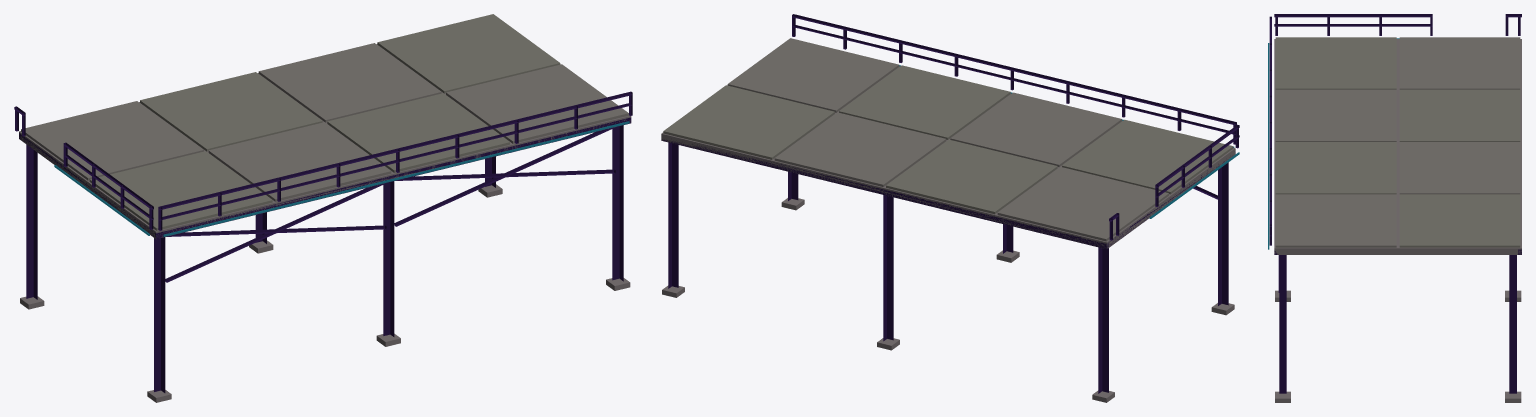
Rendered from env_base99_mezzanine_20x10_z7_visual_top3d_v001.glb.
3 renders of one model, left to right at view 1: azimuth 30°, elevation 25°; view 2: azimuth 150°, elevation 25°; view 3: azimuth 270°, elevation 25°, orthographic. The views are drawn at different scales.
Visible parts, largest first — view 1: 二层楼板_主体_金属哑光反光, 二层楼板_UI灯光_柔和自发光; view 2: 二层楼板_主体_金属哑光反光; view 3: 二层楼板_主体_金属哑光反光, 二层楼板_UI灯光_柔和自发光.
Part boxes in pixels (x1=…): 二层楼板_主体_金属哑光反光: x1=14, y1=14, x2=632, y2=402; 二层楼板_UI灯光_柔和自发光: x1=54, y1=121, x2=629, y2=236; 二层楼板_主体_金属哑光反光: x1=661, y1=14, x2=1239, y2=402; 二层楼板_主体_金属哑光反光: x1=1269, y1=14, x2=1521, y2=402; 二层楼板_UI灯光_柔和自发光: x1=1268, y1=38, x2=1399, y2=249.
Bounding box in the file's own units: 20.25 × 7.93 × 10.25.
3 materials, 3 textured.
